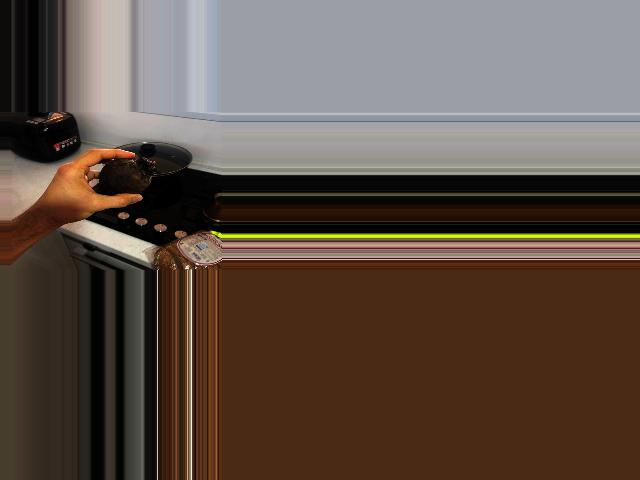beet: (96, 158, 156, 194)
